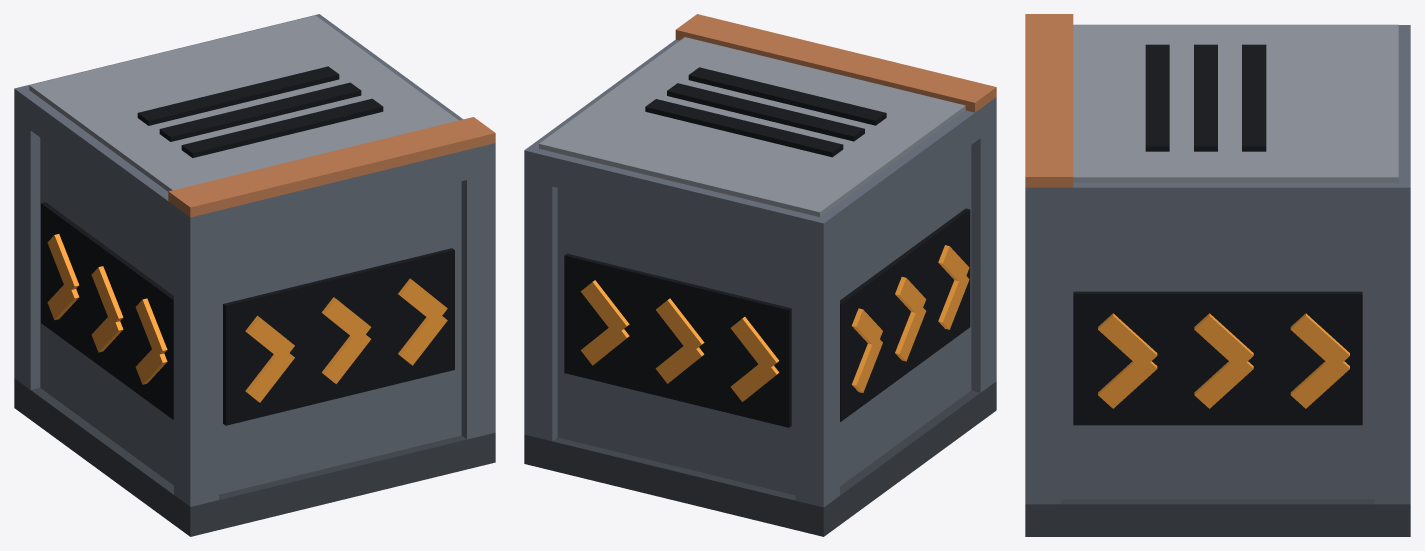
The model's file is dock_unload.glb.
3 views of the same model, side by side, from view 1: azimuth 30°, elevation 25°; view 2: azimuth 150°, elevation 25°; view 3: azimuth 270°, elevation 25° (orthographic). The views are drawn at different scales.
Visible parts, largest first — view 1: body.034, tier.017, lit0.001, lit2.001, lit1.001; view 2: body.034, tier.017, lit0.001, lit1.001, lit2.001; view 3: body.034, tier.017, lit0.001, lit1.001, lit2.001.
Boxes of the visible parts, x1=… form: body.034: x1=14, y1=14, x2=495, y2=536; tier.017: x1=168, y1=117, x2=495, y2=217; lit0.001: x1=47, y1=234, x2=294, y2=402; lit2.001: x1=135, y1=278, x2=447, y2=384; lit1.001: x1=91, y1=266, x2=371, y2=383; body.034: x1=524, y1=37, x2=996, y2=536; tier.017: x1=675, y1=14, x2=996, y2=112; lit0.001: x1=581, y1=280, x2=882, y2=392; lit1.001: x1=655, y1=277, x2=926, y2=383; lit2.001: x1=730, y1=245, x2=969, y2=401; body.034: x1=1025, y1=24, x2=1410, y2=536; tier.017: x1=1025, y1=14, x2=1073, y2=187; lit0.001: x1=1098, y1=313, x2=1157, y2=408; lit1.001: x1=1194, y1=313, x2=1253, y2=408; lit2.001: x1=1290, y1=313, x2=1349, y2=408.
Bounding box in the file's own units: 1 × 1.03 × 1.
